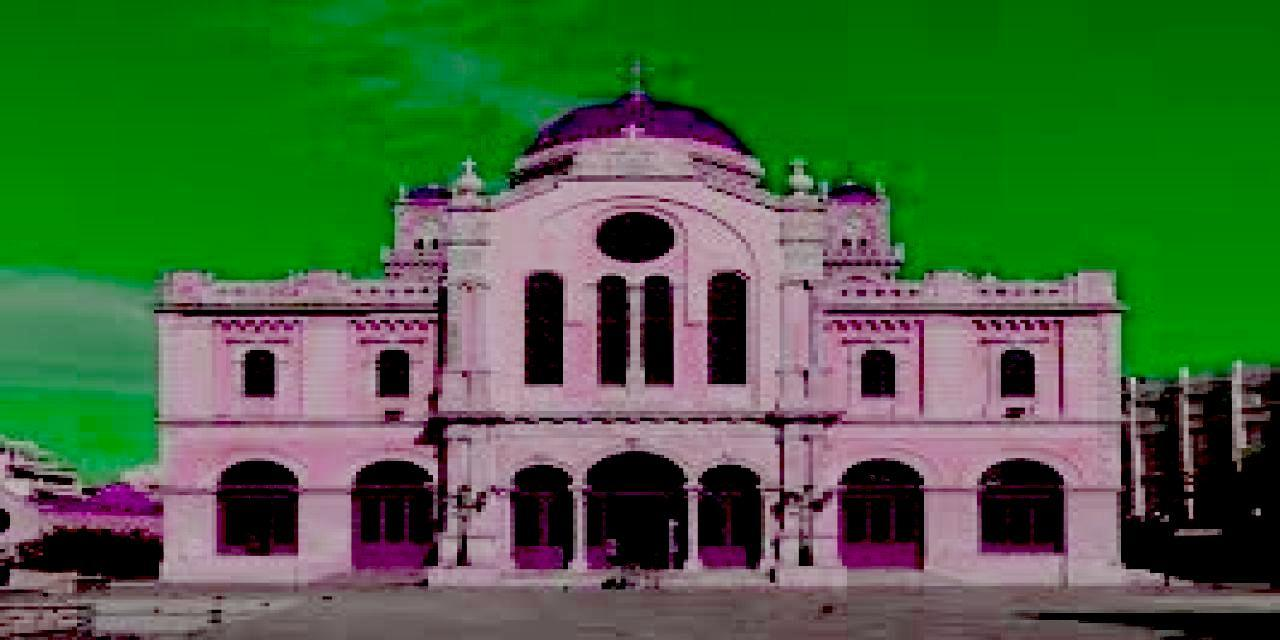Agios Minas: (154, 56, 1133, 589)
